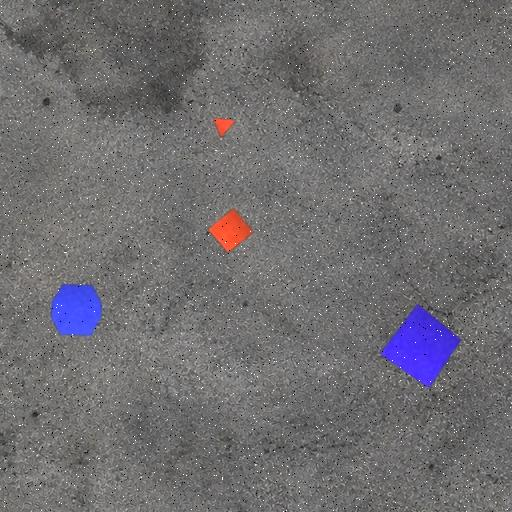BLUE_SQUARE: (380, 303, 462, 389)
RED_SQUARE: (208, 207, 254, 254)
